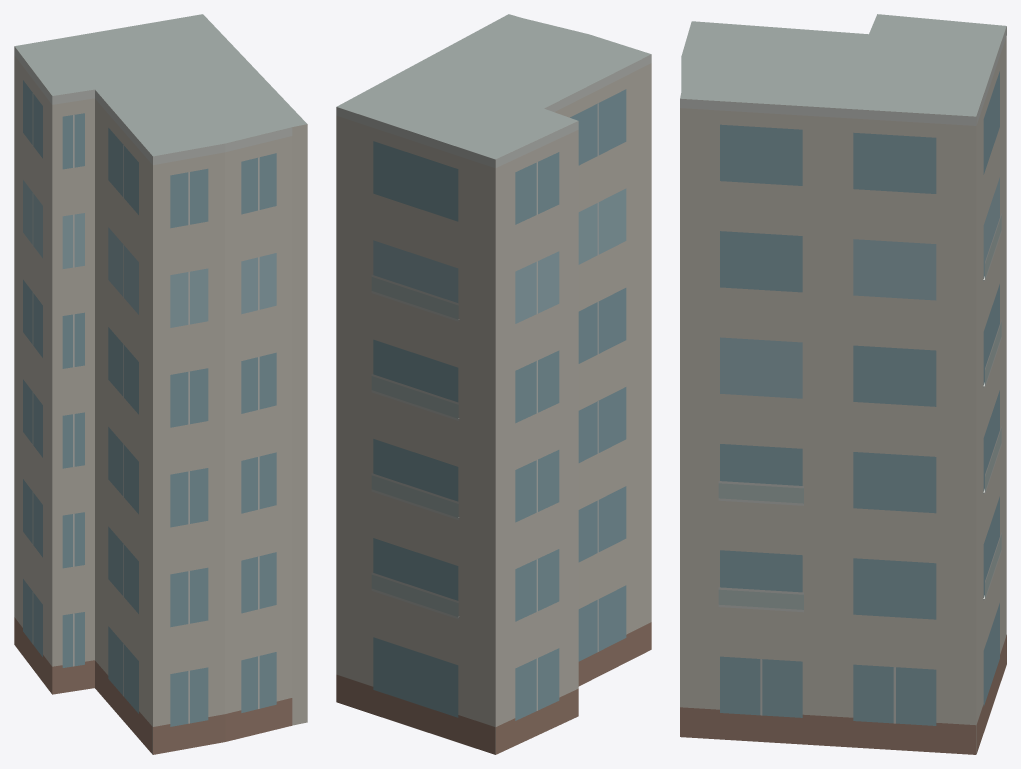
The model's file is survey-upis-32464198.glb.
3 renders of one model, left to right at view 1: azimuth 30°, elevation 25°; view 2: azimuth 150°, elevation 25°; view 3: azimuth 270°, elevation 25°, orthographic. The views are drawn at different scales.
Parts seen in each view (by area): view 1: survey-upis-32464198.tmp; view 2: survey-upis-32464198.tmp; view 3: survey-upis-32464198.tmp.
Boxes of the visible parts, x1,y1,x2,y2 form: survey-upis-32464198.tmp: [14, 14, 307, 754]; survey-upis-32464198.tmp: [336, 14, 651, 754]; survey-upis-32464198.tmp: [680, 14, 1006, 754].
Size of the model in its own units: 5.73 by 16.6 by 7.71.
